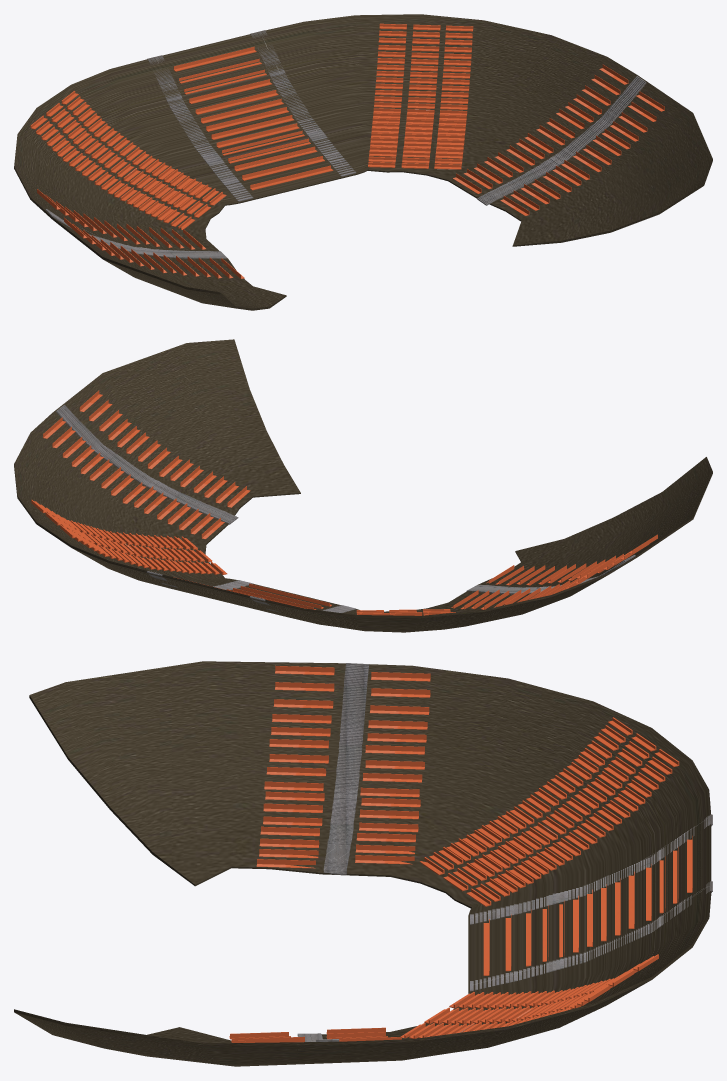
The model's file is stadium.fbx.
3 views of the same model, one above another, from view 1: azimuth 30°, elevation 25°; view 2: azimuth 150°, elevation 25°; view 3: azimuth 270°, elevation 25° (orthographic). The views are drawn at different scales.
Parts seen in each view (by area): view 1: bleachers_seats:stadium, bleachers_seats:pCube569, pCube639, pCube635, pCube636, stairset4, Stairset_2, Stairset_1, pCube415; view 2: bleachers_seats:stadium, pCube635, bleachers_seats:pCube569, pCube636, stairset4, pCube415, pCube639; view 3: bleachers_seats:stadium, pCube636, pCube639, bleachers_seats:pCube569, pCube415, Stairset_2, Stairset_1, pCube635.
Part boxes in pixels (left/top/right/bottom): bleachers_seats:stadium: left=14, top=14, right=712, bottom=310; bleachers_seats:pCube569: left=368, top=23, right=473, bottom=169; pCube639: left=30, top=91, right=226, bottom=229; pCube635: left=453, top=64, right=664, bottom=215; pCube636: left=37, top=189, right=244, bottom=278; stairset4: left=477, top=76, right=646, bottom=205; Stairset_2: left=147, top=55, right=253, bottom=201; Stairset_1: left=250, top=30, right=356, bottom=176; pCube415: left=45, top=209, right=227, bottom=258; bleachers_seats:stadium: left=14, top=339, right=712, bottom=632; pCube635: left=43, top=390, right=250, bottom=539; bleachers_seats:pCube569: left=31, top=500, right=227, bottom=574; pCube636: left=451, top=534, right=657, bottom=609; stairset4: left=56, top=405, right=238, bottom=524; pCube415: left=467, top=555, right=635, bottom=594; pCube639: left=356, top=609, right=455, bottom=615; bleachers_seats:stadium: left=14, top=661, right=711, bottom=1066; pCube636: left=256, top=665, right=430, bottom=868; pCube639: left=420, top=717, right=679, bottom=906; bleachers_seats:pCube569: left=401, top=954, right=658, bottom=1038; pCube415: left=323, top=663, right=369, bottom=875; Stairset_2: left=470, top=814, right=712, bottom=924; Stairset_1: left=470, top=881, right=712, bottom=991; pCube635: left=229, top=1027, right=401, bottom=1042.
Size of the model in its own units: 168 by 22.56 by 130.
